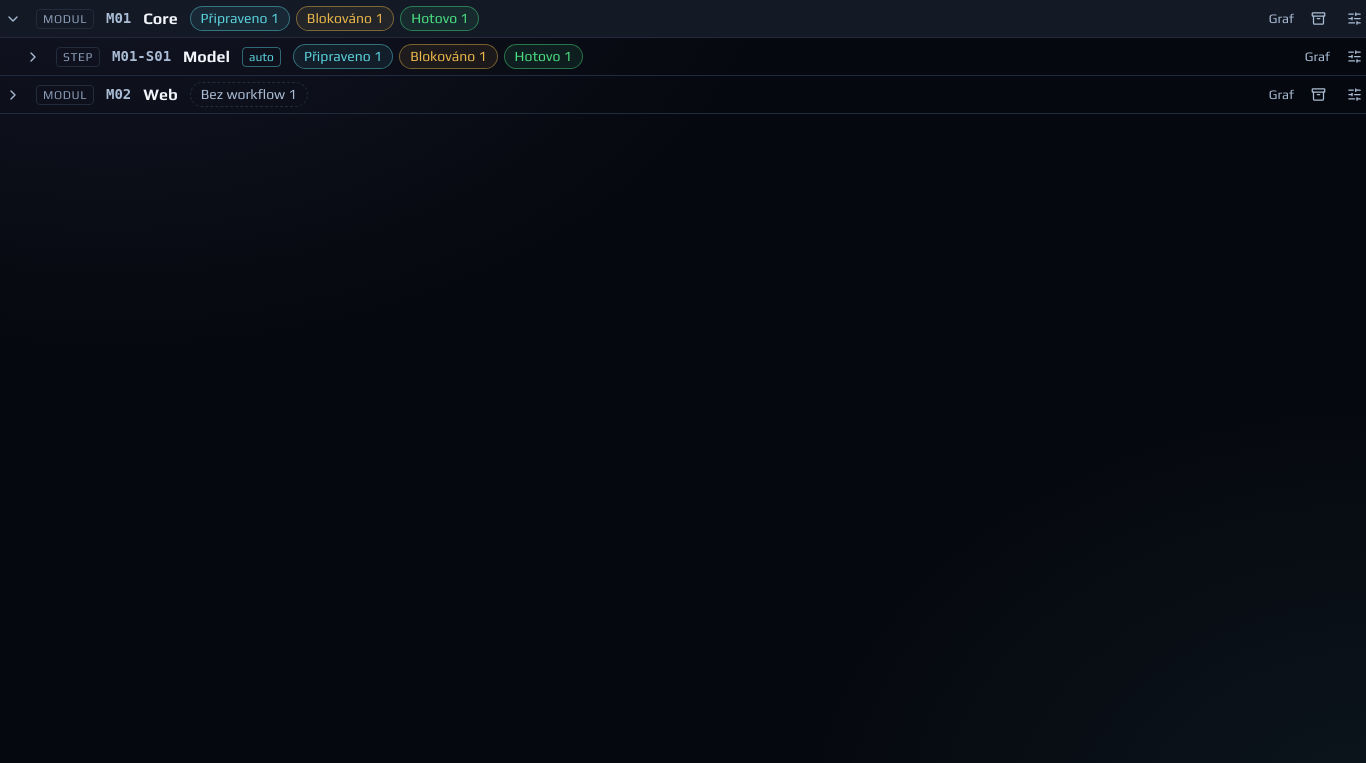
Scenario: BacklogTree › saves the settings through the API and asks for the tree again
Click the button with test id "settings" in the row of "auto": click(1354, 56) [1342,46,1365,68]
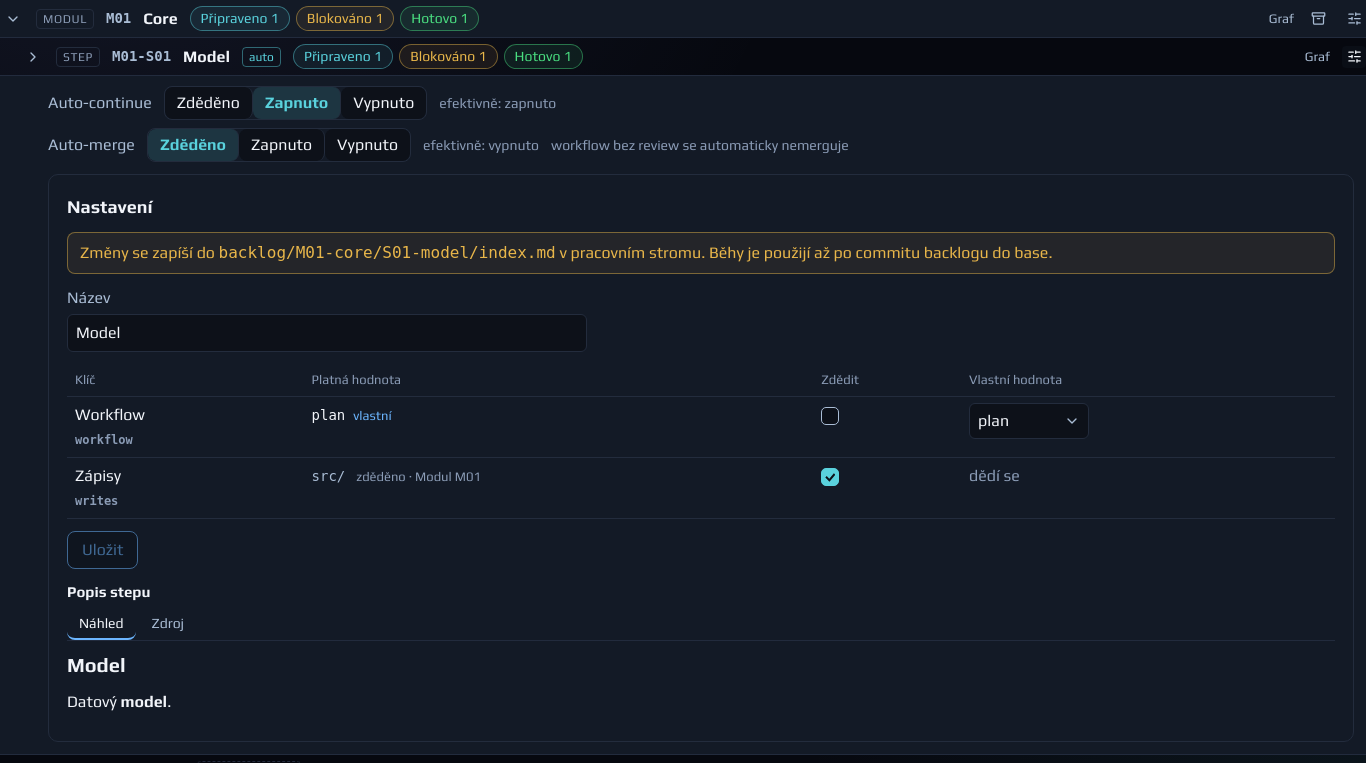
Click the checkbox with test id "inherit-writes": click(830, 477) [821,468,839,486]
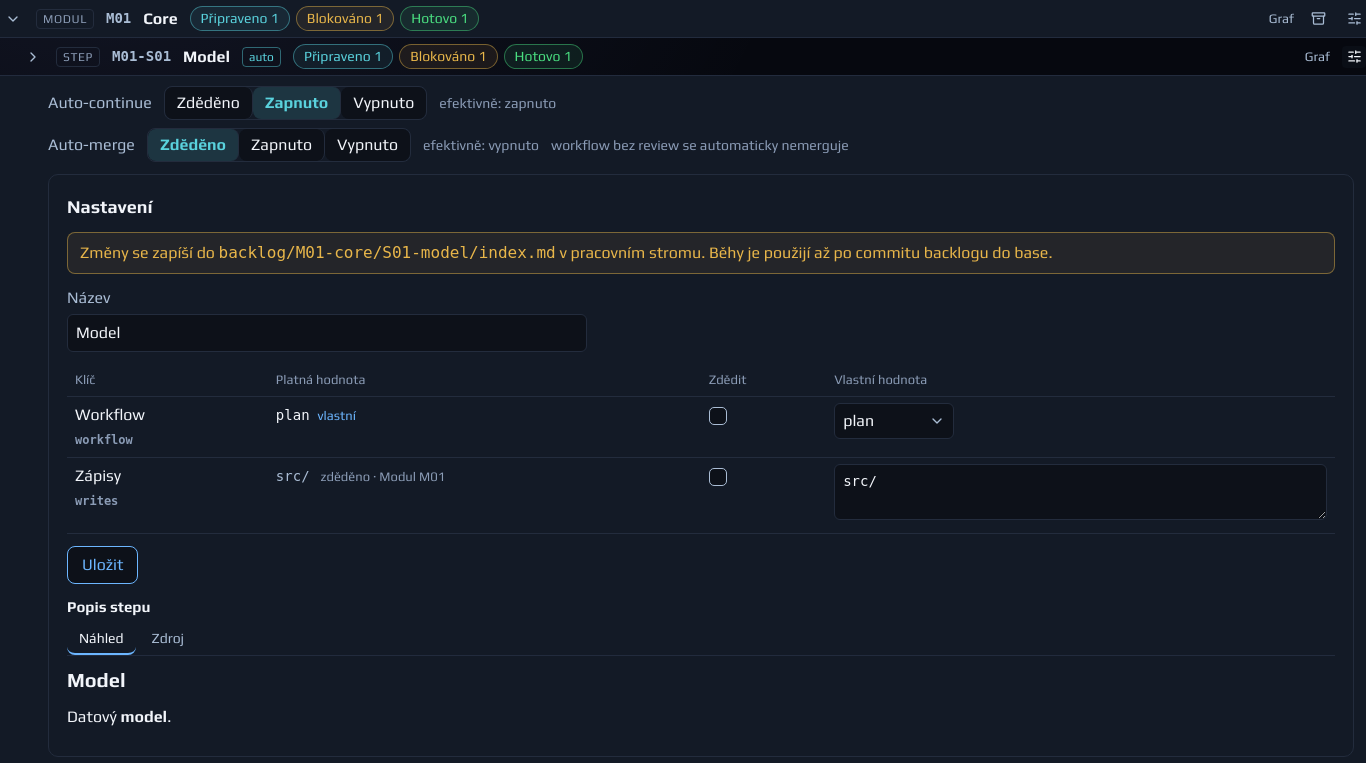
Replace the text in the text box with test id "edit-writes" with "docs/": (1081, 492) [834,464,1327,520]
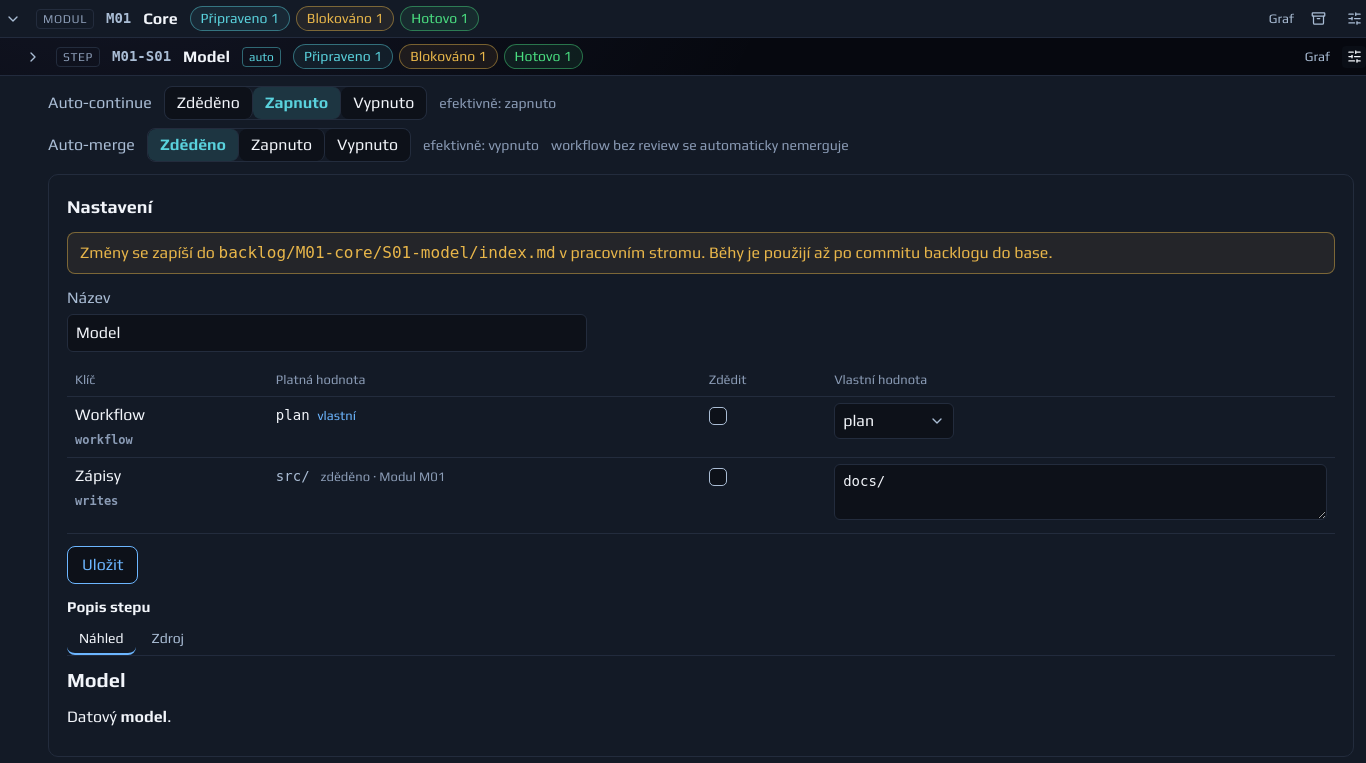
Submit the form with test id "container-settings"
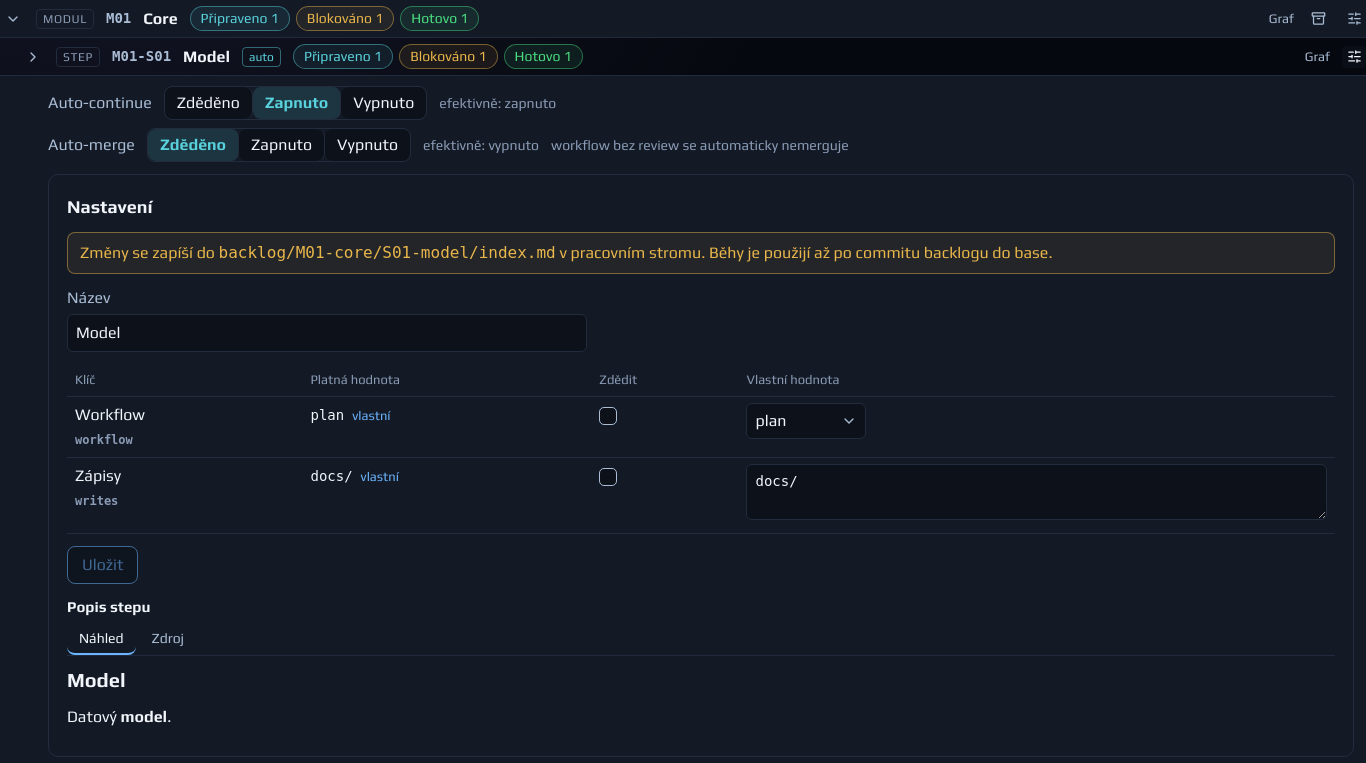
Expected: the cell with test id "value-writes" shows "docs/", [310,468,353,484]
